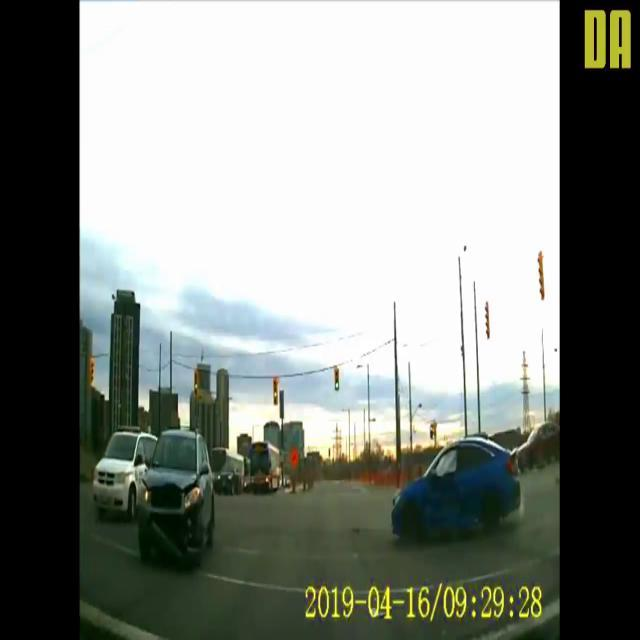multiple_accident: (365, 318, 550, 577), (123, 393, 222, 568)
